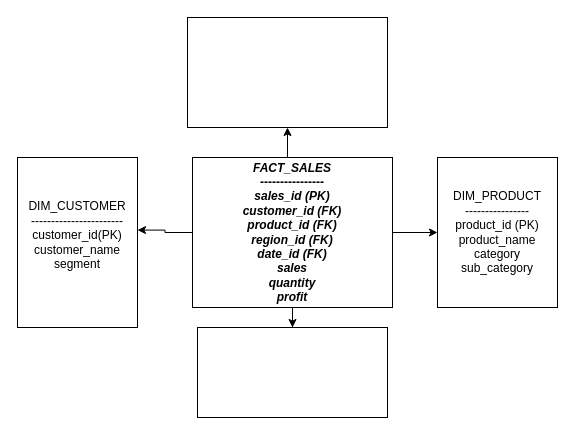
The diagram is 575 pixels wide and 435 high, and some of its shapes have lost their labels. Here are the shapes that lost their labels. From the top down, the centre of each, then its label:
At (287,72): "DIM_DATE ---------------- date_id (PK) order_date year month day".
At (292,372): "DIM_REGION ---------------- region_id (PK) country region".
